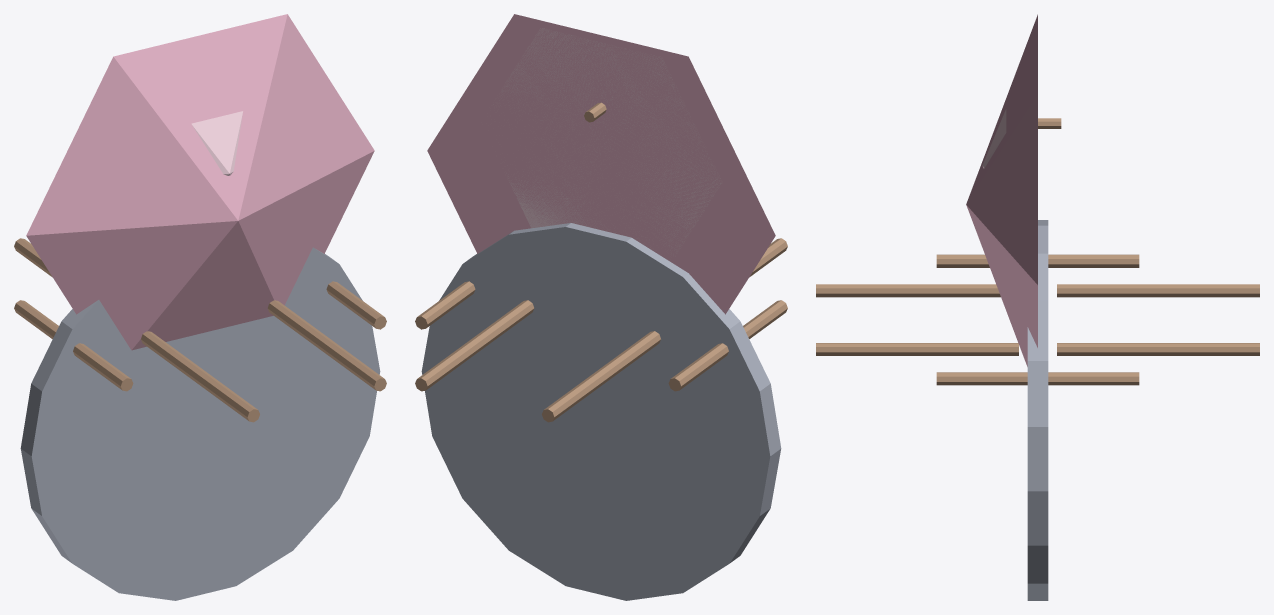
Rendered from hero_tea_pavilion.glb.
3 renders of one model, left to right at view 1: azimuth 30°, elevation 25°; view 2: azimuth 150°, elevation 25°; view 3: azimuth 270°, elevation 25°, orthographic. The views are drawn at different scales.
Parts seen in each view (by area): view 1: world; view 2: world; view 3: world.
Part boxes in pixels (left/top/right/bottom): world: left=14, top=14, right=386, bottom=600; world: left=415, top=14, right=787, bottom=600; world: left=816, top=14, right=1259, bottom=600.
Size of the model in its own units: 3.3 by 5.01 by 3.83.
